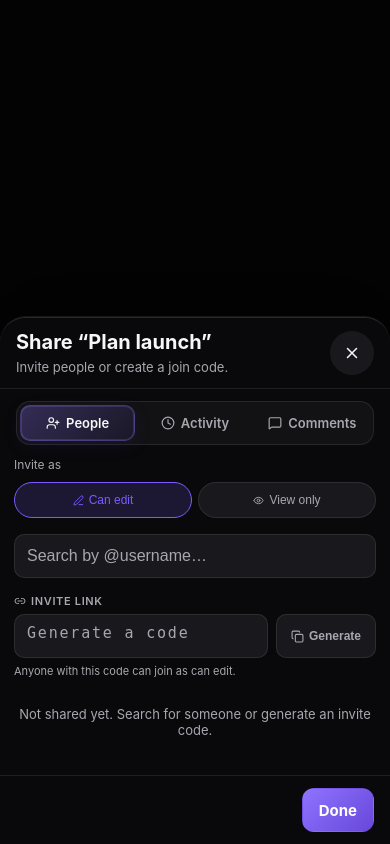
Test case: Generate creates, displays, and copies the newly returned code
Step 1. Click the button "Generate" → {"x": 326, "y": 636}, box [276, 614, 376, 658]
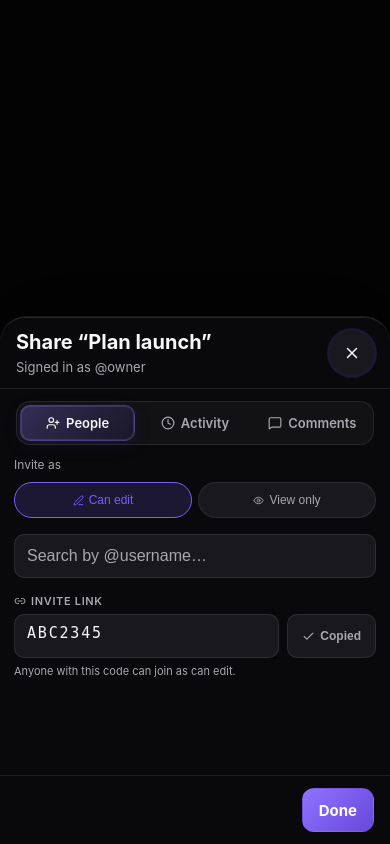
Expected: the text "ABC2345" is shown, [27, 624, 103, 642]
